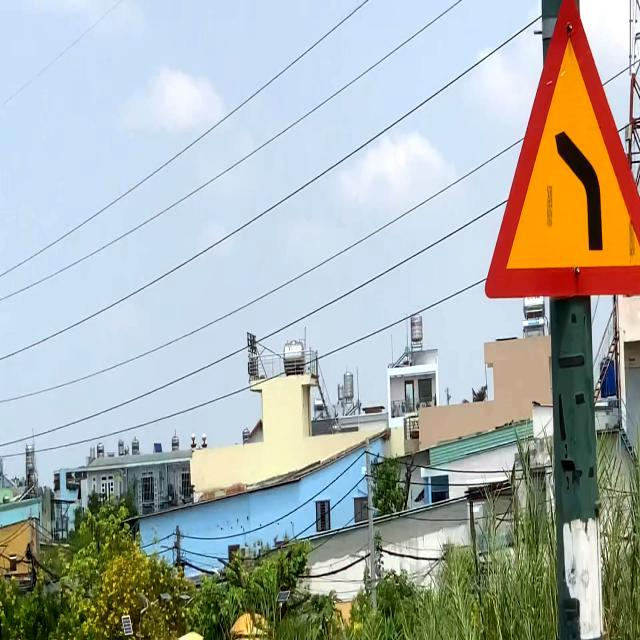cho ngoat nguy hiem vong ben trai: (482, 0, 640, 303)
